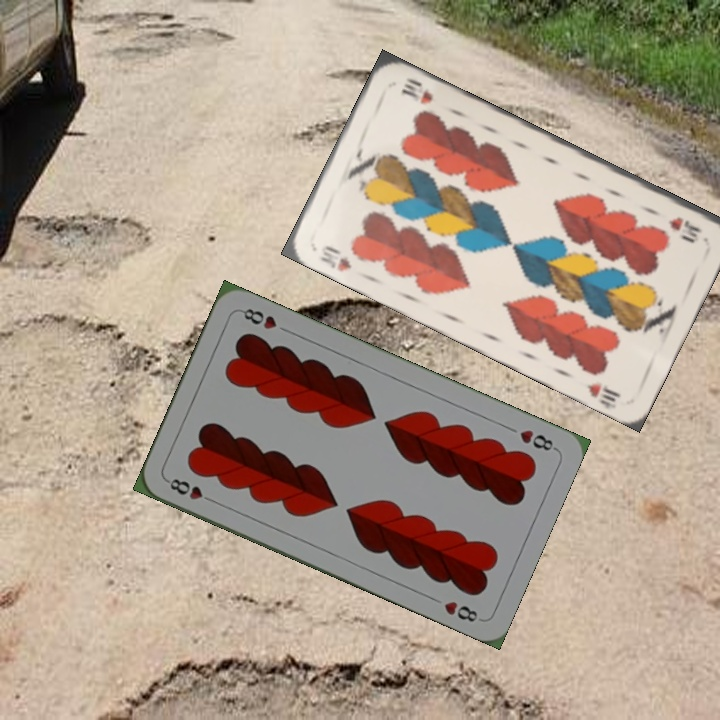H10: (316, 241, 354, 275), (664, 212, 703, 244)
H8: (163, 474, 219, 506), (516, 425, 559, 454)
